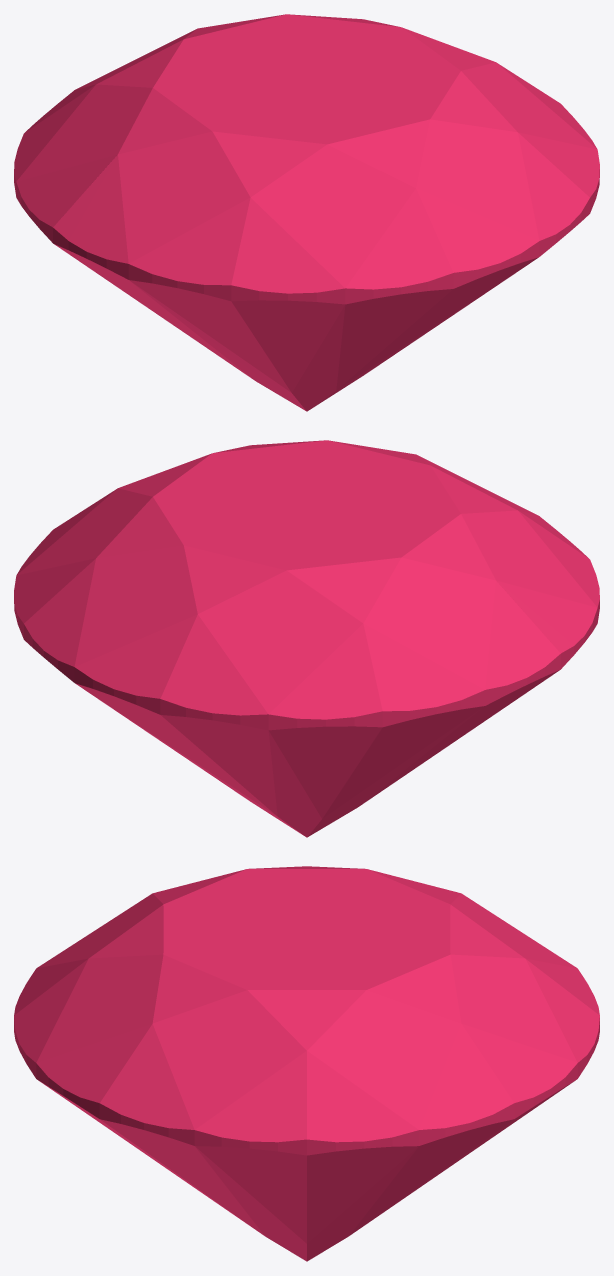
File: RoundRuby.glb
The picture shows the model from 3 angles, top to bottom: view 1: azimuth 30°, elevation 25°; view 2: azimuth 150°, elevation 25°; view 3: azimuth 270°, elevation 25°; orthographic projection.
Parts seen in each view (by area): view 1: new twist dia for 3d model; view 2: new twist dia for 3d model; view 3: new twist dia for 3d model.
Part boxes in pixels (x1,y1,x2,y2): new twist dia for 3d model: [14, 14, 599, 411]; new twist dia for 3d model: [14, 440, 599, 837]; new twist dia for 3d model: [14, 866, 599, 1261].
Bounding box in the file's own units: 7.45 × 4.66 × 7.45.
